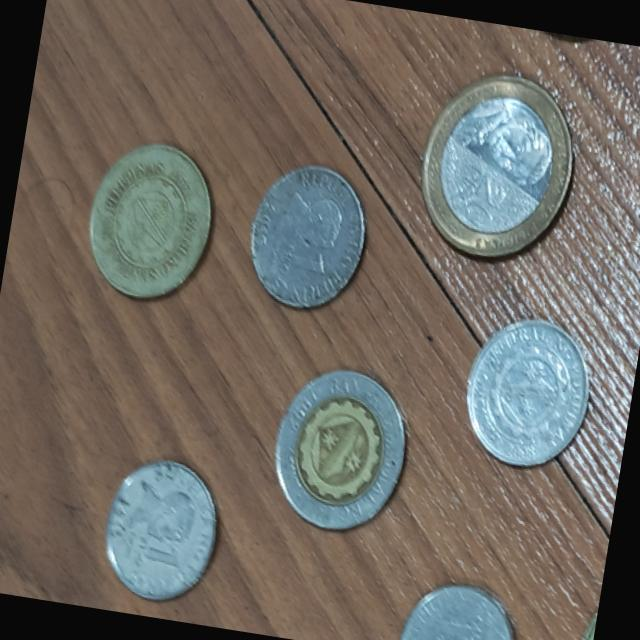10_peso: (275, 371, 403, 529)
1_peso: (467, 320, 587, 462), (252, 165, 364, 307), (107, 461, 215, 598), (401, 585, 510, 640)
20_peso: (422, 77, 571, 256)
5_peso: (90, 144, 210, 296)
